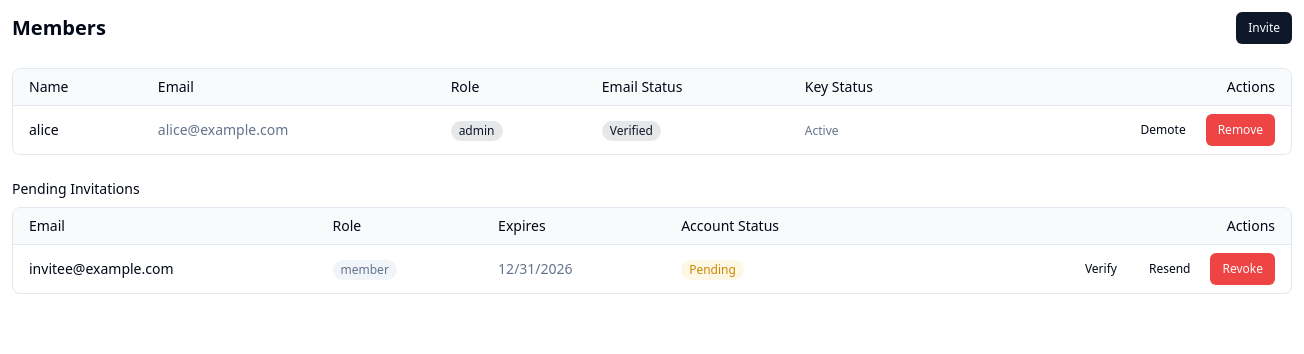
Test: OrgMembersTab › shows a success notice after Verify succeeds (acknowledgement was missing pre-fix)
This screenshot has width=1304, height=354.
Click the button "Verify".
click(1101, 269)  # box [1073, 253, 1129, 285]
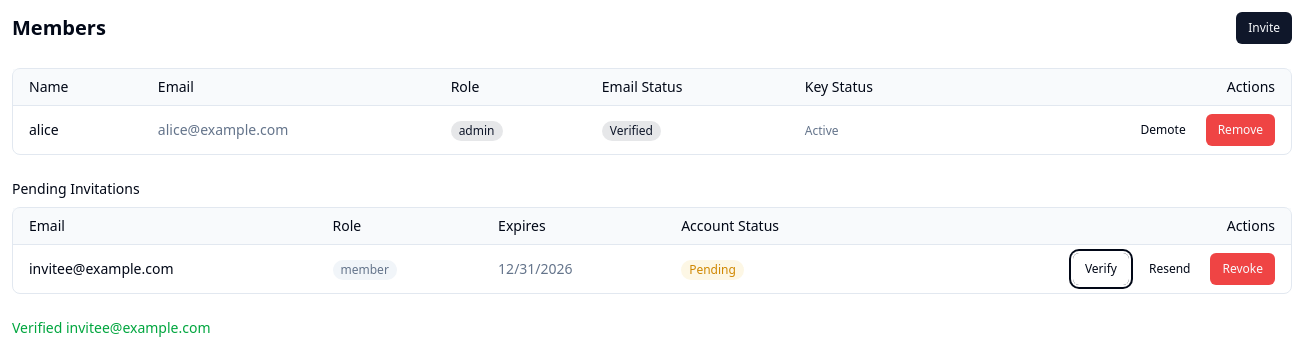
Expected: the message reads "Verified invitee@example.com", [12, 318, 210, 337]
